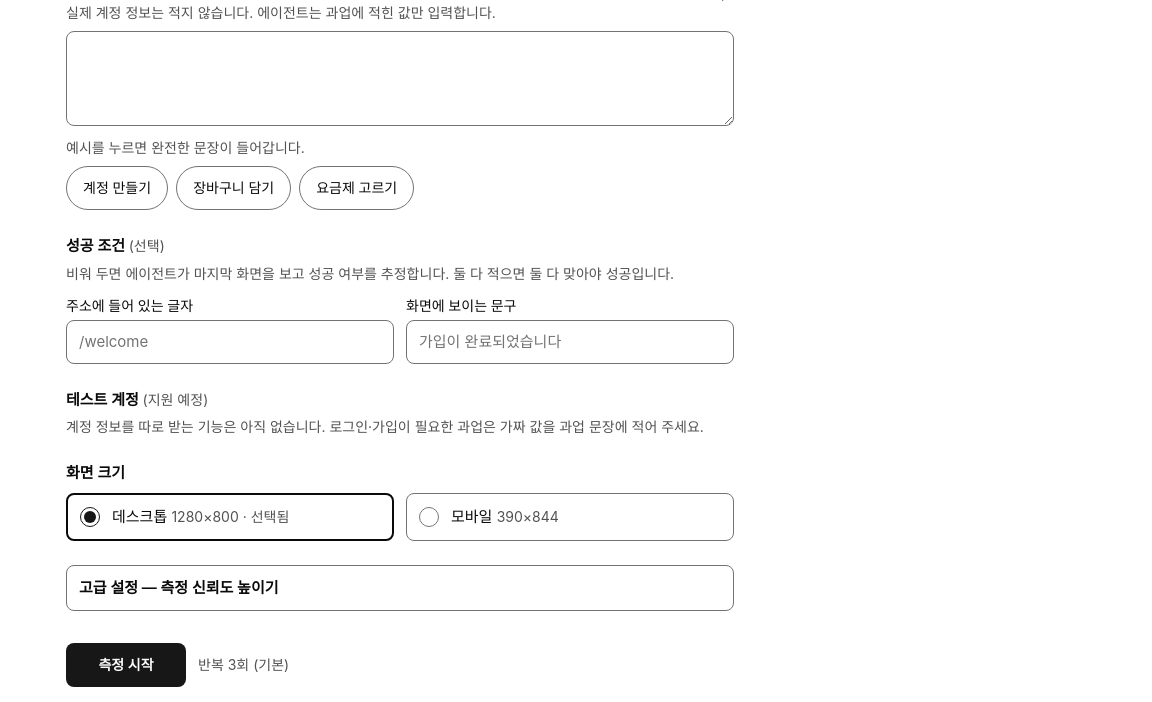
Test: 빈 폼으로 제출하면 두 칸에 오류, 남은 항목 수, 첫 오류 칸으로 포커스, 요청 없음
The width and height of the screenshot is (1152, 702).
(page scrolled)
Click the button "측정 시작" at (126,665), box top-left (66, 643), bottom-right (186, 687)
(page scrolled)
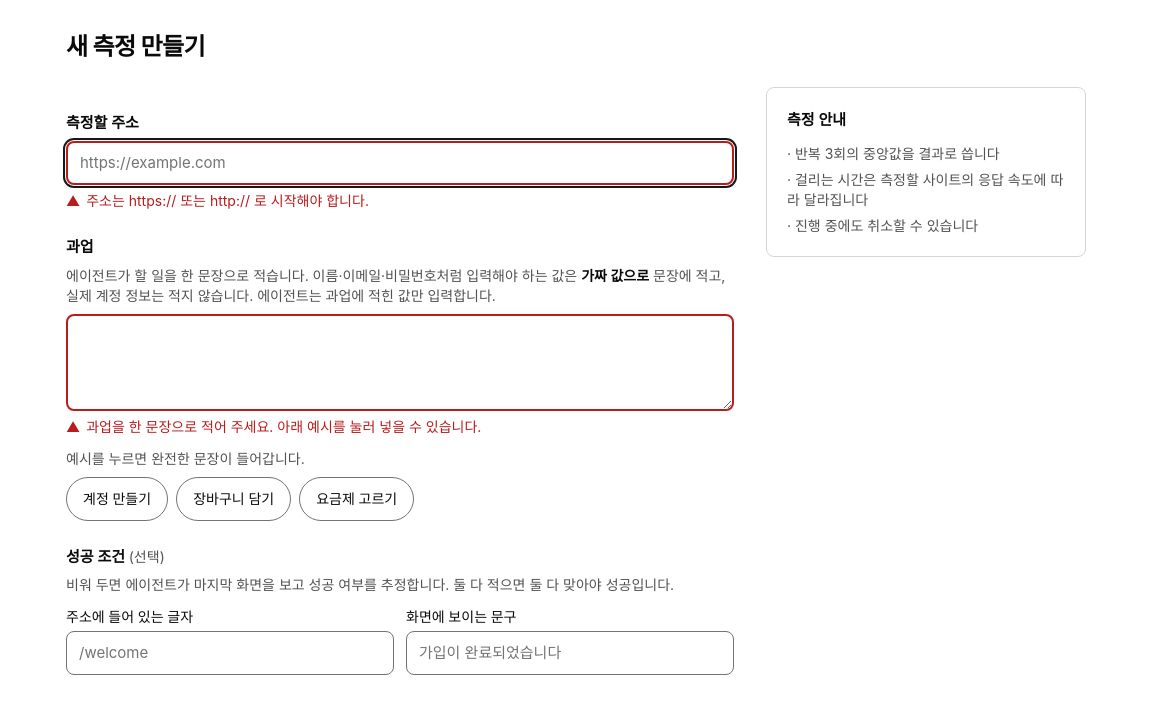
Expected: the text "주소는 https:// 또는 http:// 로 시작해야 합니다." is shown, top-left (86, 192), bottom-right (369, 209)
Expected: the text "과업을 한 문장으로 적어 주세요. 아래 예시를 눌러 넣을 수 있습니다." is shown, top-left (86, 418), bottom-right (481, 435)
